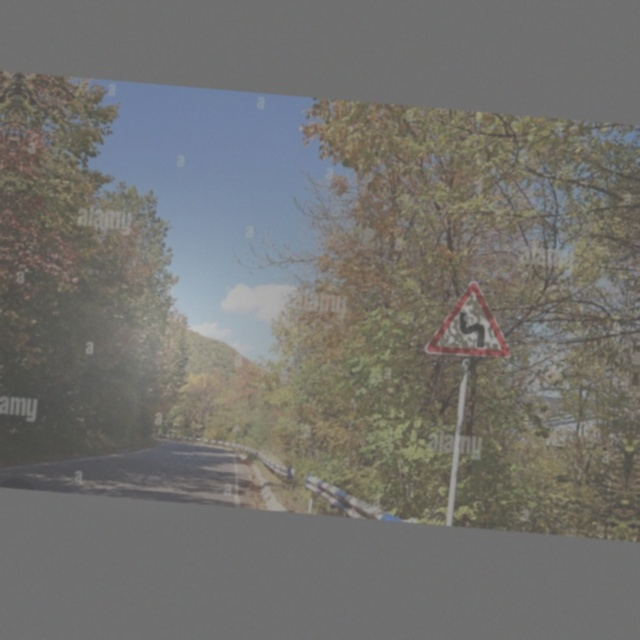Left_Reverse_Bend: (423, 274, 516, 366)
